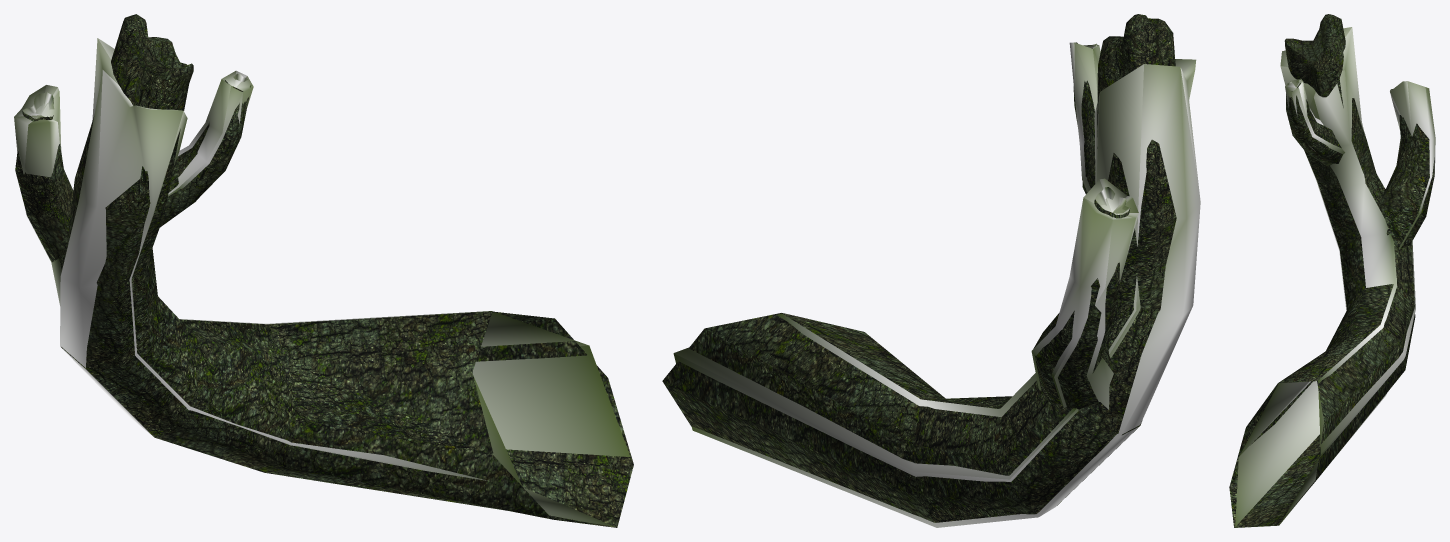
Rendered from flora_treestump_wg_01.dae.
3 renders of one model, left to right at view 1: azimuth 30°, elevation 25°; view 2: azimuth 150°, elevation 25°; view 3: azimuth 270°, elevation 25°, orthographic. The views are drawn at different scales.
Visible parts, largest first — view 1: nifid_1-matrix, nifid_11-matrix; view 2: nifid_1-matrix, nifid_11-matrix; view 3: nifid_1-matrix, nifid_11-matrix.
Boxes of the visible parts, x1=… form: nifid_1-matrix: x1=15, y1=14, x2=633, y2=527; nifid_11-matrix: x1=14, y1=38, x2=630, y2=526; nifid_1-matrix: x1=662, y1=14, x2=1176, y2=522; nifid_11-matrix: x1=673, y1=42, x2=1200, y2=527; nifid_1-matrix: x1=1229, y1=14, x2=1434, y2=527; nifid_11-matrix: x1=1235, y1=27, x2=1435, y2=527.
Size of the model in its own units: 1094 by 556 by 1124.
2 materials, 1 textured.
